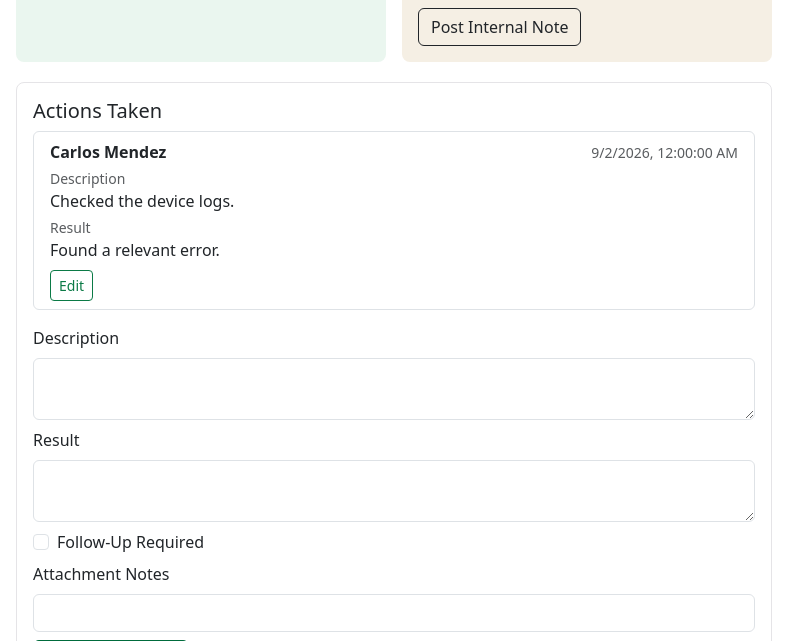
Test: StaffTicketDetail - Actions Taken stale-edit conflict (UI-04) › shows a safe message and reloads the item on a 409 response
(page scrolled)
Expected: the text "Checked the device logs." is shown, [50,190,234,212]
Click the button "Edit". click: (72, 286)
box: [50,270,93,301]
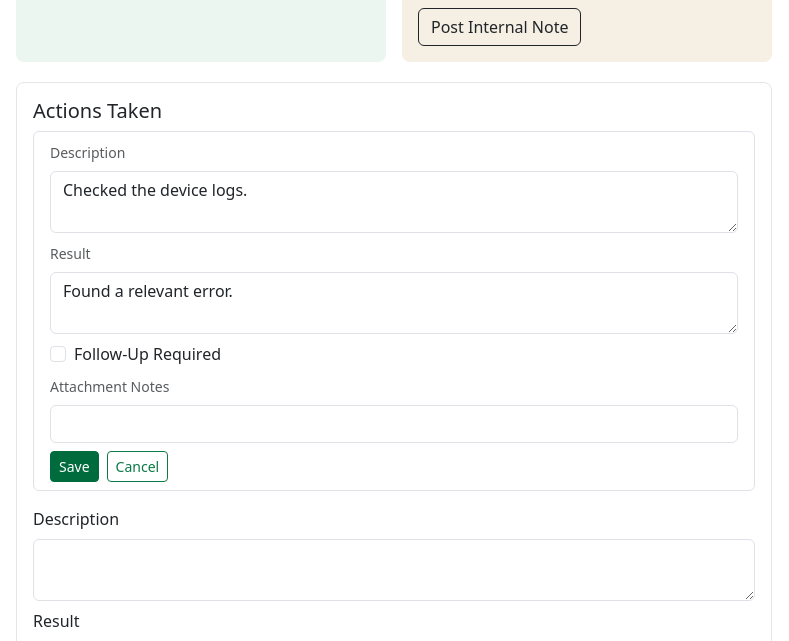
Click the button "Save". click: (74, 467)
box: [50,451,99,482]
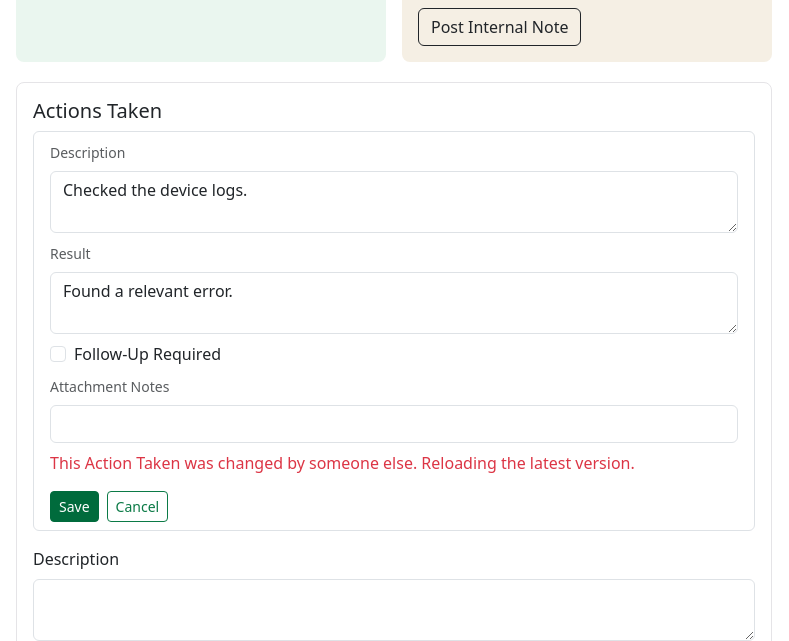
Now the text "This Action Taken was changed by someone else. Reloading the latest version." is shown, box [50,452,635,474]
